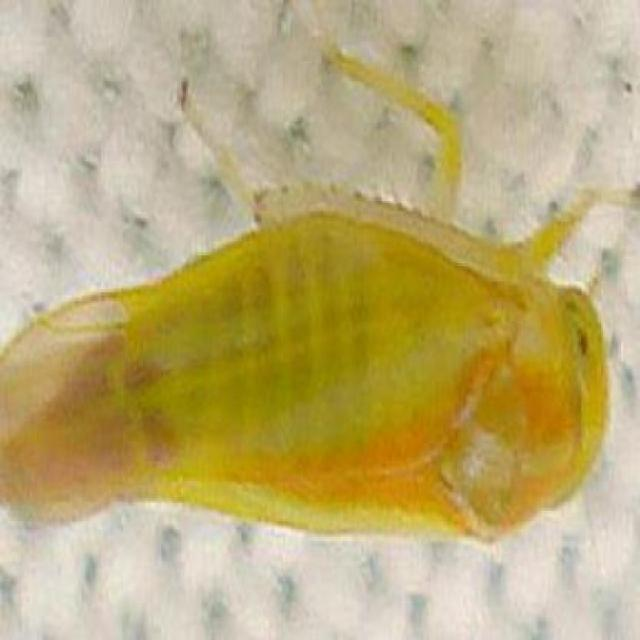green-leafhopper: (3, 225, 617, 544)
